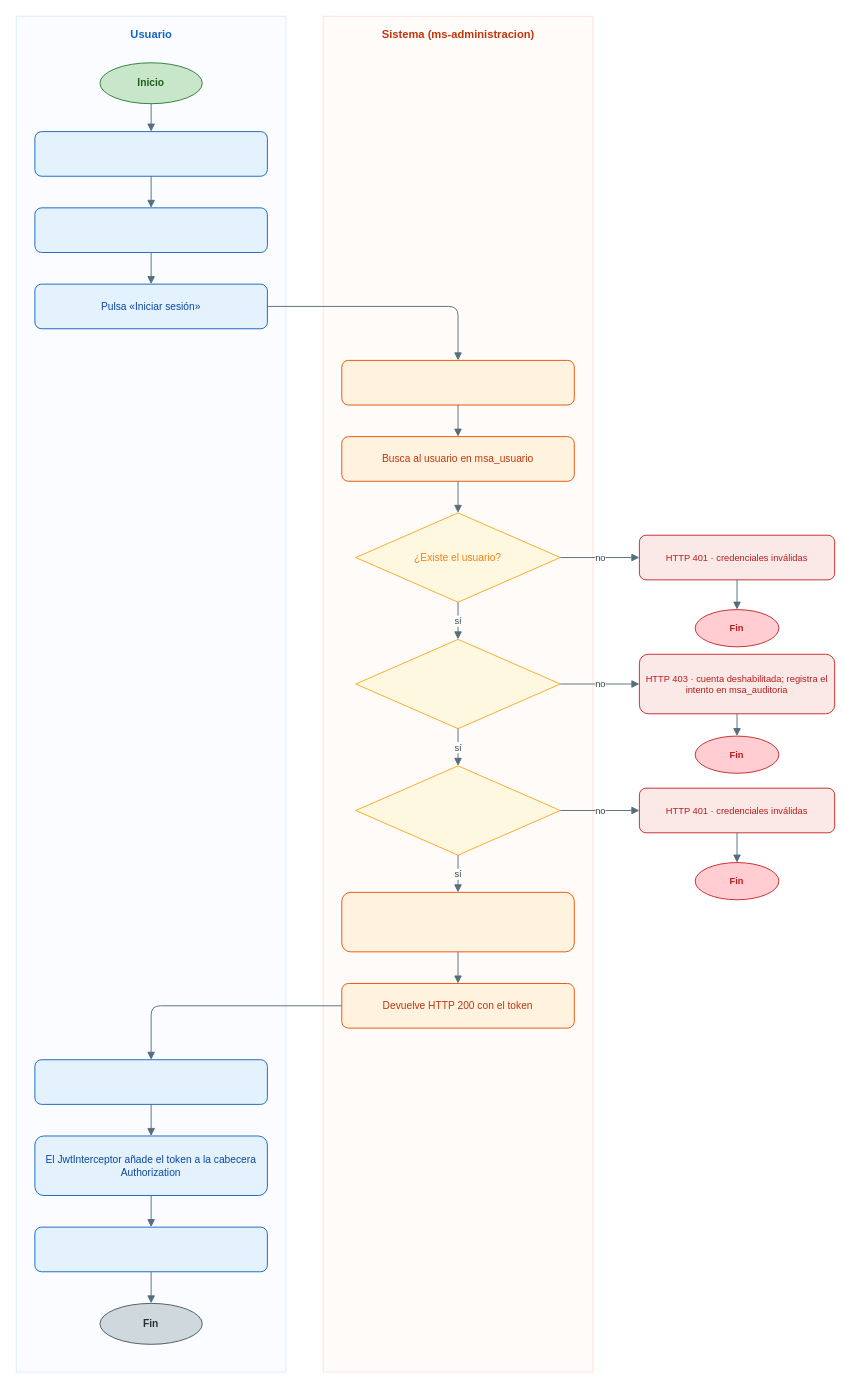
Some shapes in this 851 by 1388 pixel diagram are drawn without their labels. Here are the shapes that lost their labels. From the top down, the centre of each, then its label:
At (150,153): "Accede a la pantalla de inicio de sesión".
At (150,229): "Introduce usuario y contraseña".
At (457,382): "Recibe las credenciales en POST /api/auth/login".
At (457,683): "¿La cuenta está habilitada?".
At (457,810): "¿La contraseña es válida?".
At (457,921): "Genera un JWT firmado (HS256) con id, rol y expiración".
At (150,1081): "El frontend almacena el JWT en sessionStorage".
At (150,1249): "Redirige al panel principal según el rol".
